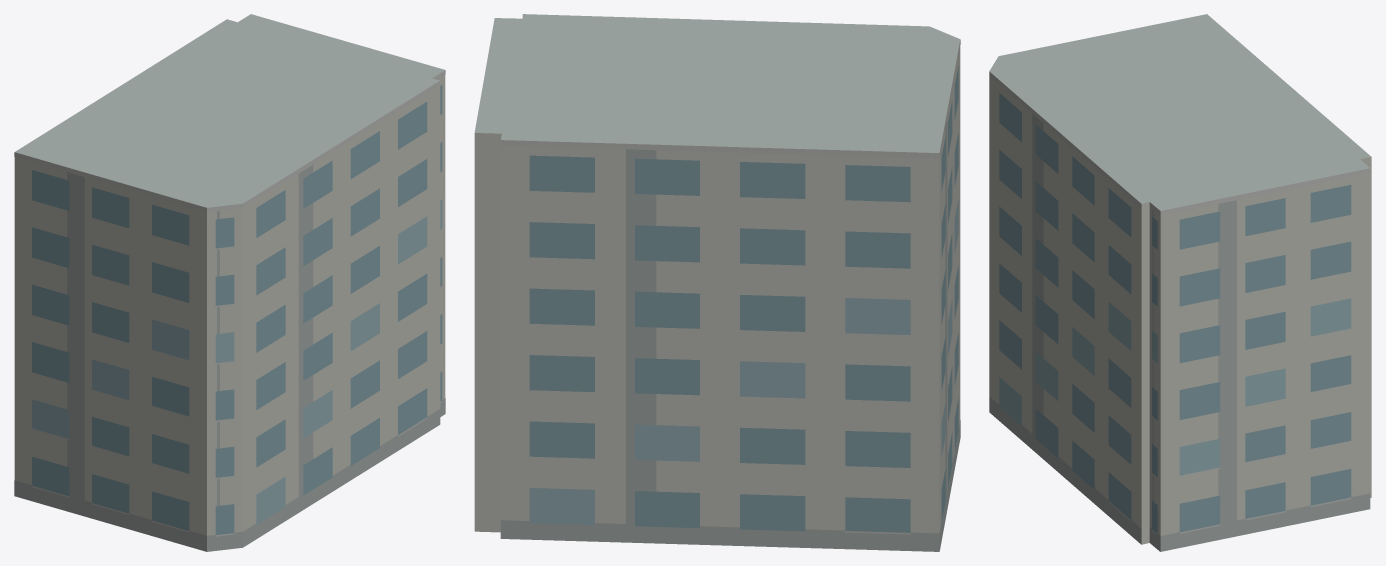
Rendered from survey-upis-32727492.glb.
3 views of the same model, side by side, from view 1: azimuth 30°, elevation 25°; view 2: azimuth 150°, elevation 25°; view 3: azimuth 270°, elevation 25° (orthographic). The views are drawn at different scales.
Parts seen in each view (by area): view 1: survey-upis-32727492.tmp; view 2: survey-upis-32727492.tmp; view 3: survey-upis-32727492.tmp.
Part boxes in pixels (x1,y1,x2,y2): survey-upis-32727492.tmp: (14,14,445,551); survey-upis-32727492.tmp: (474,14,960,551); survey-upis-32727492.tmp: (989,14,1371,551).
Size of the model in its own units: 21.69 by 17.5 by 17.8.
